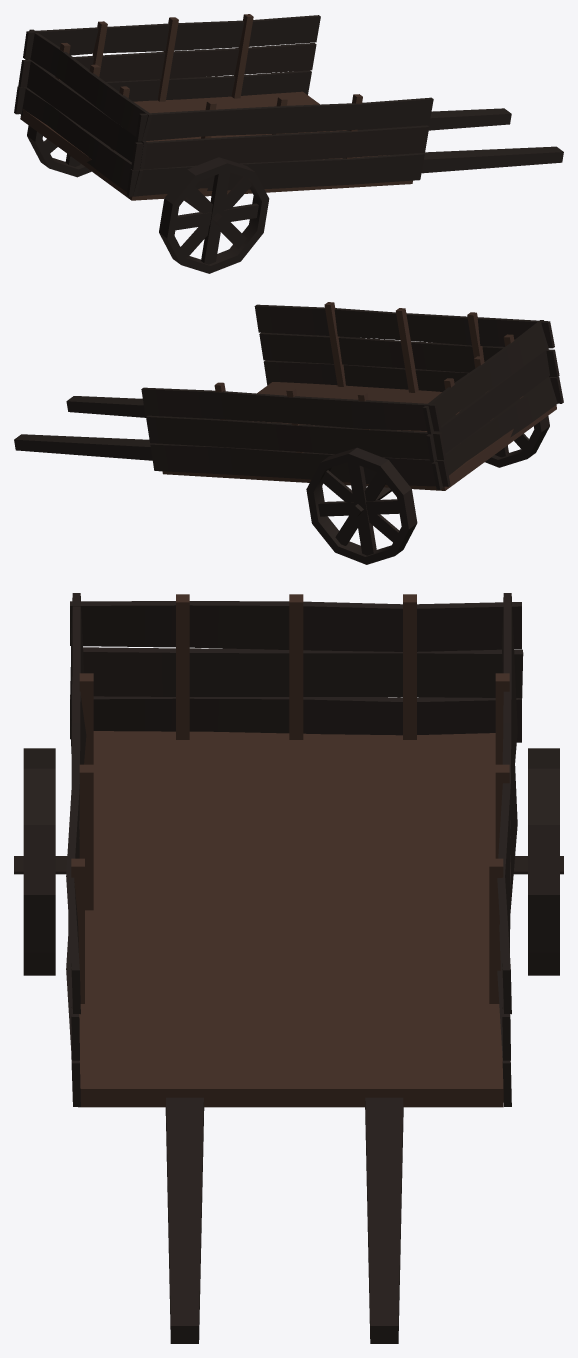
File: SM_Cart.fbx
3 renders of one model, top to bottom at view 1: azimuth 30°, elevation 25°; view 2: azimuth 150°, elevation 25°; view 3: azimuth 270°, elevation 25°, orthographic. The views are drawn at different scales.
Visible parts, largest first — view 1: Box061; view 2: Box061; view 3: Box061.
Boxes of the visible parts, x1,y1,x2,y2 form: Box061: [14, 14, 563, 273]; Box061: [14, 302, 563, 564]; Box061: [14, 593, 563, 1343].
Size of the model in its own units: 568 by 211 by 307.
